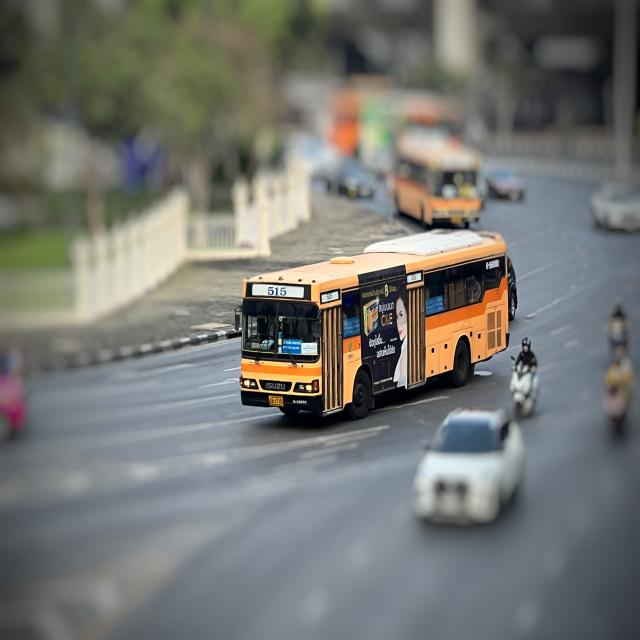BMTA-bus: (236, 229, 515, 424)
Bus Line Number: (262, 282, 293, 299)
Bus Side Number: (292, 396, 308, 406)
Destination Sign: (280, 338, 302, 354)
